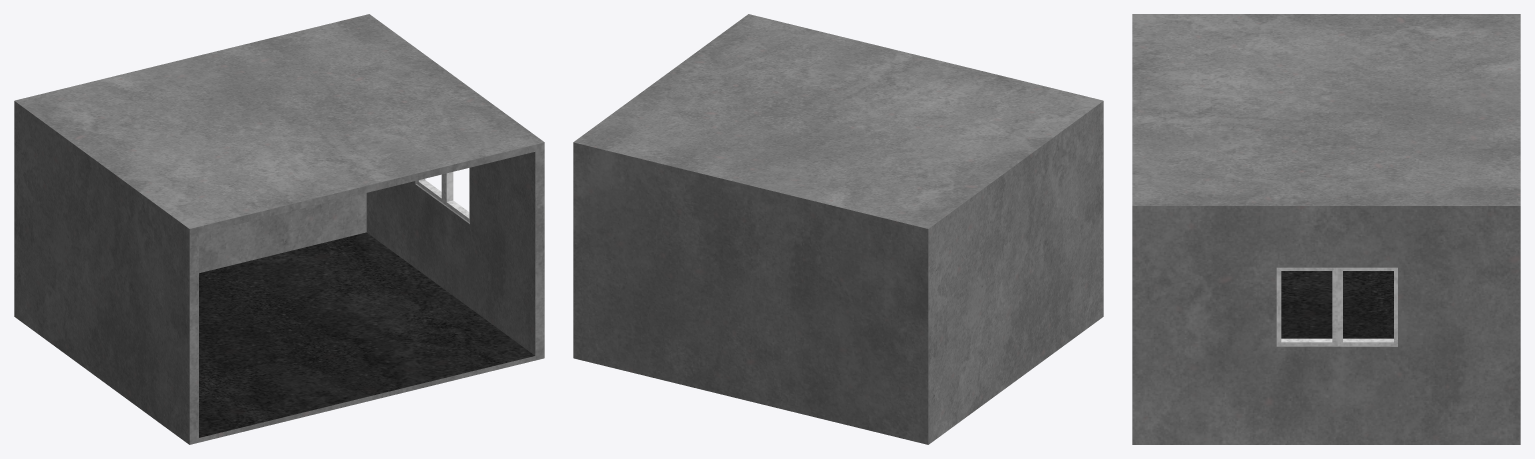
The model's file is gallery.fbx.
The picture shows the model from 3 angles, left to right: view 1: azimuth 30°, elevation 25°; view 2: azimuth 150°, elevation 25°; view 3: azimuth 270°, elevation 25°; orthographic projection. The views are drawn at different scales.
Parts seen in each view (by area): view 1: room.004; view 2: room.004; view 3: room.004.
Part boxes in pixels (x1,y1,x2,y2): room.004: [14, 14, 544, 444]; room.004: [573, 14, 1103, 444]; room.004: [1132, 14, 1520, 444].
Size of the model in its own units: 1235 by 717 by 1056.
2 materials, 2 textured.
